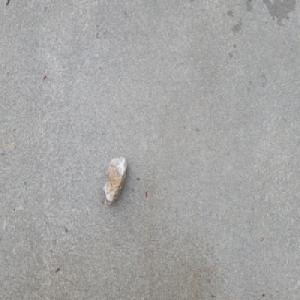Rock: (101, 154, 128, 209)
